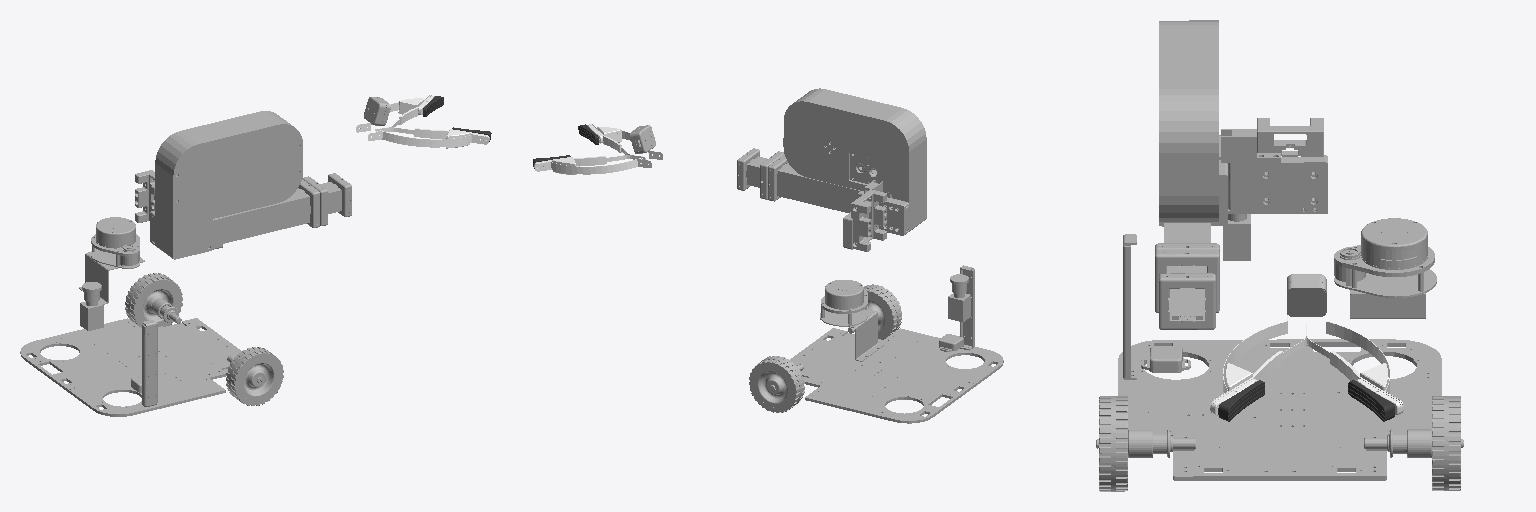
--- What the picture shows (computed from the rendered views, not written in the file) ---
The picture shows the robot from 3 angles, left to right: view 1: azimuth 30°, elevation 25°; view 2: azimuth 150°, elevation 25°; view 3: azimuth 270°, elevation 25°; orthographic projection.
Robot: konka_calibrated — 25 links, 24 joints (11 revolute, 4 prismatic, 9 fixed); root link ground_link; default pose: every joint at zero.
Visible links, largest first — view 1: link_lift, base_link, link_right_wheel, link_left_wheel, link_right_finger, link_arm_l1, link_left_finger, link_gripper_camera; view 2: link_lift, base_link, link_left_wheel, link_left_finger, link_right_wheel, link_arm_l1, link_right_finger, link_gripper_camera; view 3: base_link, link_lift, link_right_wheel, link_left_wheel, link_arm_l1, link_right_finger, link_left_finger, link_gripper_camera, link_arm_l2, link_left_finger_tip, link_right_finger_tip.
Boxes of the visible links, x1,y1,x2,y2 form: link_lift: [135, 111, 319, 259]; base_link: [20, 217, 241, 416]; link_right_wheel: [226, 347, 283, 405]; link_left_wheel: [125, 273, 182, 327]; link_right_finger: [368, 127, 489, 148]; link_arm_l1: [320, 173, 351, 216]; link_left_finger: [356, 95, 434, 132]; link_gripper_camera: [364, 97, 390, 125]; link_lift: [768, 88, 926, 251]; base_link: [790, 265, 1003, 423]; link_left_wheel: [749, 356, 804, 412]; link_left_finger: [534, 155, 651, 174]; link_right_wheel: [848, 284, 901, 339]; link_arm_l1: [737, 148, 766, 190]; link_right_finger: [587, 124, 662, 159]; link_gripper_camera: [630, 125, 655, 153]; base_link: [1118, 214, 1441, 480]; link_lift: [1155, 20, 1327, 251]; link_right_wheel: [1096, 396, 1195, 491]; link_left_wheel: [1364, 396, 1463, 490]; link_arm_l1: [1159, 265, 1215, 329]; link_right_finger: [1210, 315, 1306, 415]; link_left_finger: [1307, 321, 1403, 414]; link_gripper_camera: [1287, 274, 1326, 316]; link_arm_l2: [1155, 250, 1219, 312]; link_left_finger_tip: [1348, 380, 1394, 421]; link_right_finger_tip: [1218, 380, 1264, 421].
Bounding box of the posed robot: 0.834 × 0.3852 × 0.4951 m (x, y, z).
11 mesh visuals loaded from 20 distinct referenced files (11 binary STL); not drawn: 9 (reference not matched to a file when rendering).

The robot description file, URDF, robot "konka_calibrated":
<?xml version="1.0" encoding="utf-8"?>
<!-- This URDF was automatically created by SolidWorks to URDF Exporter! Originally created by Stephen Brawner ([email redacted]) 
     Commit Version: 1.6.0-4-g7f85cfe  Build Version: 1.6.7995.38578
     For more information, please see http://wiki.ros.org/sw_urdf_exporter -->
<robot
  name="konka_calibrated">
  <link name="ground_link"/>
  <link name="base_link_z">
    <inertial>
      <origin xyz="0. 0. 0." rpy="0. 0. 0."/>
      <mass value="0.000001"/>
      <inertia ixx="0." ixy="0." ixz="0." iyy="0." iyz="0." izz="0."/>
    </inertial>
  </link>
  <joint name="base_z" type="revolute">
    <origin xyz="0. 0. 0." rpy="0. 0. 0."/>
    <parent link="ground_link"/>
    <child link="base_link_z"/>
    <axis xyz="0. 0. 1."/>
    <limit lower="-6.0" upper="6.0" effort="100" velocity="1.5"/>
  </joint>
  <link
    name="base_link">
    <inertial>
      <origin
        xyz="-0.134386456438626 -0.0029635574533388 0.0162723957299908"
        rpy="0 0 0" />
      <mass
        value="1.62345380476899" />
      <inertia
        ixx="0.0102521793009218"
        ixy="-0.000137622284476433"
        ixz="-2.97249967180695E-06"
        iyy="0.0105024284991203"
        iyz="-2.61808281409741E-05"
        izz="0.0200126307730333" />
    </inertial>
    <visual>
      <origin
        xyz="0 0 0"
        rpy="0 0 0" />
      <geometry>
        <mesh
          filename="./base_link.STL" />
      </geometry>
      <material
        name="">
        <color
          rgba="0.752941176470588 0.752941176470588 0.752941176470588 1" />
      </material>
    </visual>
    <collision>
      <origin
        xyz="0 0 0"
        rpy="0 0 0" />
      <geometry>
        <mesh
          filename="./base_link.STL" />
      </geometry>
    </collision>
  </link>
  <joint name="base_fixed" type="fixed">
    <origin xyz="0. 0. 0.05" rpy="0. 0. 0."/>
    <parent link="base_link_z"/>
    <child link="base_link"/>
  </joint>
  <link name="calibration_board"/>
  <joint name="calibration_board_joint" type="fixed">
    <origin xyz="0.6 0. -0.005" rpy="0. 0. 0."/>
    <parent link="base_link"/>
    <child link="calibration_board"/>
  </joint>
  <link
    name="link_left_wheel">
    <inertial>
      <origin
        xyz="1.2768616369091E-05 -4.43366311559182E-06 -0.0324391427791873"
        rpy="0 0 0" />
      <mass
        value="0.614259402757732" />
      <inertia
        ixx="0.000332643157382783"
        ixy="-1.12599594927163E-08"
        ixz="-1.85299097610504E-07"
        iyy="0.000332614640545352"
        iyz="6.43430424579014E-08"
        izz="0.000436884693388146" />
    </inertial>
    <visual>
      <origin
        xyz="0 0 0"
        rpy="0 0 0" />
      <geometry>
        <mesh
          filename="./link_left_wheel.STL" />
      </geometry>
      <material
        name="">
        <color
          rgba="0.752941176470588 0.752941176470588 0.752941176470588 1" />
      </material>
    </visual>
    <collision>
      <origin
        xyz="0 0 0"
        rpy="0 0 0" />
      <geometry>
        <mesh
          filename="./link_left_wheel.STL" />
      </geometry>
    </collision>
  </link>
  <joint
    name="joint_left_wheel"
    type="revolute">
    <origin
      xyz="0 0.192599945028044 0.000145516989955043"
      rpy="-1.57004078679594 0 0" />
    <parent
      link="base_link" />
    <child
      link="link_left_wheel" />
    <axis
      xyz="0 0 1" />
    <limit lower="-3.13" upper="3.13" effort="100" velocity="1.0"/>
  </joint>
  <link
    name="link_right_wheel">
    <inertial>
      <origin
        xyz="-6.5658817576808E-06 -1.18145727525283E-05 0.0324391427623859"
        rpy="0 0 0" />
      <mass
        value="0.614259402757732" />
      <inertia
        ixx="0.000332619304616668"
        ixy="1.54284701123084E-08"
        ixz="-9.5282980946905E-08"
        iyy="0.000332638493311467"
        iyz="-1.71455292240236E-07"
        izz="0.000436884693388146" />
    </inertial>
    <visual>
      <origin
        xyz="0 0 0"
        rpy="0 0 0" />
      <geometry>
        <mesh
          filename="./link_right_wheel.STL" />
      </geometry>
      <material
        name="">
        <color
          rgba="0.752941176470588 0.752941176470588 0.752941176470588 1" />
      </material>
    </visual>
    <collision>
      <origin
        xyz="0 0 0"
        rpy="0 0 0" />
      <geometry>
        <mesh
          filename="./link_right_wheel.STL" />
      </geometry>
    </collision>
  </link>
  <joint
    name="joint_right_wheel"
    type="revolute">
    <origin
      xyz="0 -0.192599945028044 -0.000145516989955071"
      rpy="-1.57004078679594 0 0" />
    <parent
      link="base_link" />
    <child
      link="link_right_wheel" />
    <axis
      xyz="0 0 1" />
    <limit lower="-3.13" upper="3.13" effort="100" velocity="1.0"/>
  </joint>
  <link
    name="link_mast">
    <inertial>
      <origin
        xyz="0.0258398513426664 0.028631401224958 0.467900104019929"
        rpy="0 0 0" />
      <mass
        value="6.18138650034138" />
      <inertia
        ixx="0.637662257415019"
        ixy="-0.000218992253647309"
        ixz="-0.00929685916784925"
        iyy="0.624235077725138"
        iyz="-0.00290164259795953"
        izz="0.0279704353207967" />
    </inertial>
    <visual>
      <origin
        xyz="0 0 0"
        rpy="0 0 0" />
      <geometry>
        <mesh
          filename="./link_mast.STL" />
      </geometry>
      <material
        name="">
        <color
          rgba="0.752941176470588 0.752941176470588 0.752941176470588 1" />
      </material>
    </visual>
    <collision>
      <origin
        xyz="0 0 0"
        rpy="0 0 0" />
      <geometry>
        <mesh
          filename="./link_mast.STL" />
      </geometry>
    </collision>
  </link>
  <joint
    name="joint_linkmast"
    type="fixed">
    <origin
      xyz="-0.165 -0.018631458667035 0.173985972848211"
      rpy="0.000755539998957646 0 0" />
    <parent
      link="base_link" />
    <child
      link="link_mast" />
    <axis
      xyz="0 0 0" />
  </joint>
  <link
    name="link_lift">
    <inertial>
      <origin
        xyz="-0.0867335200766273 -0.072830862176892 0.0739584361022941"
        rpy="0 0 0" />
      <mass
        value="2.18189187948171" />
      <inertia
        ixx="0.00452079175387906"
        ixy="-0.000115718692828965"
        ixz="0.00114589649702232"
        iyy="0.0106392420472737"
        iyz="-3.29952623386062E-06"
        izz="0.0081091147472212" />
    </inertial>
    <visual>
      <origin
        xyz="0 0 0"
        rpy="0 0 0" />
      <geometry>
        <mesh
          filename="./link_lift.STL" />
      </geometry>
      <material
        name="">
        <color
          rgba="0.752941176470588 0.752941176470588 0.752941176470588 1" />
      </material>
    </visual>
    <collision>
      <origin
        xyz="0 0 0"
        rpy="0 0 0" />
      <geometry>
        <mesh
          filename="./link_lift.STL" />
      </geometry>
    </collision>
  </link>
  <joint
    name="joint_lift"
    type="prismatic">
    <origin
      xyz="0.0293876763883446 -0.1085 0.061"
      rpy="0 0 3.14159265358979" />
    <parent
      link="link_mast" />
    <child
      link="link_lift" />
    <axis
      xyz="0 0 1" />
    <limit
      lower="0"
      upper="1.05"
      effort="150"
      velocity="1.0" />
  </joint>
  <link
    name="link_arm_l2">
    <inertial>
      <origin
        xyz="-2.77555756156289E-17 -0.00747677548647019 -0.125906294012483"
        rpy="0 0 0" />
      <mass
        value="0.20407766260326" />
      <inertia
        ixx="0.000420999527312303"
        ixy="7.24962235162678E-20"
        ixz="1.53419953638658E-19"
        iyy="0.000419986933703547"
        iyz="-2.80888078509622E-10"
        izz="0.000124139491906804" />
    </inertial>
    <visual>
      <origin
        xyz="0 0 0"
        rpy="0 0 0" />
      <geometry>
        <mesh
          filename="./link_arm_l2.STL" />
      </geometry>
      <material
        name="">
        <color
          rgba="0.752941176470588 0.752941176470588 0.752941176470588 1" />
      </material>
    </visual>
    <collision>
      <origin
        xyz="0 0 0"
        rpy="0 0 0" />
      <geometry>
        <mesh
          filename="./link_arm_l2.STL" />
      </geometry>
    </collision>
  </link>
  <joint
    name="joint_arm_l2"
    type="prismatic">
    <origin
      xyz="-0.309 -0.03 0.038106"
      rpy="1.5708 0 -1.5708" />
    <parent
      link="link_lift" />
    <child
      link="link_arm_l2" />
    <axis
      xyz="0 0 1" />
    <limit
      lower="0"
      upper="0.16"
      effort="100"
      velocity="0.3" />
  </joint>
  <link
    name="link_arm_l1">
    <inertial>
      <origin
        xyz="0 0.00068762387390503 -0.118491699466605"
        rpy="0 0 0" />
      <mass
        value="0.159794024856601" />
      <inertia
        ixx="0.000334176222316651"
        ixy="5.92944959148203E-13"
        ixz="-1.02194238224496E-19"
        iyy="0.000333509141410478"
        iyz="-1.71589193710407E-10"
        izz="7.75474295549907E-05" />
    </inertial>
    <visual>
      <origin
        xyz="0 0 0"
        rpy="0 0 0" />
      <geometry>
        <mesh
          filename="./link_arm_l1.STL" />
      </geometry>
      <material
        name="">
        <color
          rgba="0.752941176470588 0.752941176470588 0.752941176470588 1" />
      </material>
    </visual>
    <collision>
      <origin
        xyz="0 0 0"
        rpy="0 0 0" />
      <geometry>
        <mesh
          filename="./link_arm_l1.STL" />
      </geometry>
    </collision>
  </link>
  <joint
    name="joint_arm_l1"
    type="prismatic">
    <origin
      xyz="0 -0.0081064 0.05"
      rpy="0 0 0" />
    <parent
      link="link_arm_l2" />
    <child
      link="link_arm_l1" />
    <axis
      xyz="0 0 1" />
    <limit
      lower="0"
      upper="0.16"
      effort="100"
      velocity="0.3" />
  </joint>
  <link
    name="link_arm_l0">
    <inertial>
      <origin
        xyz="0.0519744051948967 0.0477815068262361 -0.031124032944062"
        rpy="0 0 0" />
      <mass
        value="0.647193039992598" />
      <inertia
        ixx="0.000479462761380211"
        ixy="-1.64412374026322E-05"
        ixz="9.98940987402069E-08"
        iyy="0.00128430953836159"
        iyz="7.66311046809528E-06"
        izz="0.00108267736017755" />
    </inertial>
    <visual>
      <origin
        xyz="0 0 0"
        rpy="0 0 0" />
      <geometry>
        <mesh
          filename="./link_arm_l0.STL" />
      </geometry>
      <material
        name="">
        <color
          rgba="0.752941176470588 0.752941176470588 0.752941176470588 1" />
      </material>
    </visual>
    <collision>
      <origin
        xyz="0 0 0"
        rpy="0 0 0" />
      <geometry>
        <mesh
          filename="./link_arm_l0.STL" />
      </geometry>
    </collision>
  </link>
  <joint
    name="joint_arm_l0"
    type="prismatic">
    <origin
      xyz="0 0.00125 0.014"
      rpy="0 0 0" />
    <parent
      link="link_arm_l1" />
    <child
      link="link_arm_l0" />
    <axis
      xyz="0 0 1" />
    <limit
      lower="0"
      upper="0.16"
      effort="100"
      velocity="0.3" />
  </joint>
  <link
    name="link_yaw">
    <inertial>
      <origin
        xyz="0.0272928150356697 -0.0206481319921274 -0.00980364928418231"
        rpy="0 0 0" />
      <mass
        value="0.155159344900663" />
      <inertia
        ixx="5.65269362200297E-05"
        ixy="-2.20426633356647E-06"
        ixz="6.79328087987658E-10"
        iyy="0.000142475212708442"
        iyz="1.86810231854491E-08"
        izz="0.000175668181600691" />
    </inertial>
    <visual>
      <origin
        xyz="0 0 0"
        rpy="0 0 0" />
      <geometry>
        <mesh
          filename="./link_yaw.STL" />
      </geometry>
      <material
        name="">
        <color
          rgba="0.752941176470588 0.752941176470588 0.752941176470588 1" />
      </material>
    </visual>
    <collision>
      <origin
        xyz="0 0 0"
        rpy="0 0 0" />
      <geometry>
        <mesh
          filename="./link_yaw.STL" />
      </geometry>
    </collision>
  </link>
  <joint
    name="joint_yaw"
    type="revolute">
    <origin
      xyz="0.1255 0.0329 -0.0139999999999998"
      rpy="1.5707963267949 0 -3.14159265358979" />
    <parent
      link="link_arm_l0" />
    <child
      link="link_yaw" />
    <axis
      xyz="0 0 1" />
    <limit
      lower="-0.6"
      upper="2.6179938779914944"
      effort="100"
      velocity="1.5" />
  </joint>
  <link
    name="link_pitch">
    <inertial>
      <origin
        xyz="0.0119812946911165 4.66924359487919E-06 -0.035075597818908"
        rpy="0 0 0" />
      <mass
        value="0.133282783942938" />
      <inertia
        ixx="5.50258663889395E-05"
        ixy="-1.07499880428723E-12"
        ixz="8.36729111150783E-06"
        iyy="5.26806886915758E-05"
        iyz="1.723023785643E-11"
        izz="3.27771968529081E-05" />
    </inertial>
    <visual>
      <origin
        xyz="0 0 0"
        rpy="0 0 0" />
      <geometry>
        <mesh
          filename="./link_pitch.STL" />
      </geometry>
      <material
        name="">
        <color
          rgba="0.752941176470588 0.752941176470588 0.752941176470588 1" />
      </material>
    </visual>
    <collision>
      <origin
        xyz="0 0 0"
        rpy="0 0 0" />
      <geometry>
        <mesh
          filename="./link_pitch.STL" />
      </geometry>
    </collision>
  </link>
  <joint
    name="joint_pitch"
    type="revolute">
    <origin
      xyz="0.0238 0 -0.032"
      rpy="1.5708 0.1 1.5708" />
    <parent
      link="link_yaw" />
    <child
      link="link_pitch" />
    <axis
      xyz="0 0 1" />
    <limit
      lower="-1.599119487777778"
      upper="0.321"
      effort="100"
      velocity="1.5" />
  </joint>
  <link
    name="link_roll">
    <inertial>
      <origin
        xyz="-2.89195848417814E-05 -0.0376798183196644 0.0643353904322303"
        rpy="0 0 0" />
      <mass
        value="0.121829025389052" />
      <inertia
        ixx="5.31374023436403E-05"
        ixy="-9.76005080721726E-10"
        ixz="3.01395798963676E-09"
        iyy="6.03480709621298E-05"
        iyz="1.60050749407347E-07"
        izz="2.40878226683839E-05" />
    </inertial>
    <visual>
      <origin
        xyz="0 0 0"
        rpy="0 0 0" />
      <geometry>
        <mesh
          filename="./link_roll.STL" />
      </geometry>
      <material
        name="">
        <color
          rgba="1 1 1 1" />
      </material>
    </visual>
    <collision>
      <origin
        xyz="0 0 0"
        rpy="0 0 0" />
      <geometry>
        <mesh
          filename="./link_roll.STL" />
      </geometry>
    </collision>
  </link>
  <joint
    name="joint_roll"
    type="revolute">
    <origin
      xyz="0.02935 0 -0.0235"
      rpy="0 -1.5708 3.1415" />
    <parent
      link="link_pitch" />
    <child
      link="link_roll" />
    <axis
      xyz="0 0 1" />
    <limit
      lower="-3.13"
      upper="3.13"
      effort="100"
      velocity="1.5" />
  </joint>
  <link name="grasp_center">
    <inertial>
      <origin xyz="0. 0. 0." rpy="0. 0. 0."/>
      <mass value="0.000001"/>
      <inertia ixx="0." ixy="0." ixz="0." iyy="0." iyz="0." izz="0."/>
    </inertial>
  </link>
  <joint
    name="joint_grasp_center"
    type="fixed">
    <origin
      xyz="0 -0.055 0.245"
      rpy="0 -1.5707963267948966 1.5707963267948966" />
    <parent
      link="link_roll" />
    <child
      link="grasp_center" />
    <axis
      xyz="0 0 0" />
  </joint>
  <link
    name="link_left_finger">
    <inertial>
      <origin
        xyz="-0.114744698410465 -0.0498383541703534 -0.00746862446376334"
        rpy="0 0 0" />
      <mass
        value="0.0299417572217902" />
      <inertia
        ixx="7.05723584660976E-06"
        ixy="-8.18061209276055E-06"
        ixz="-2.16411007946283E-08"
        iyy="1.7674711405082E-05"
        iyz="-1.35392572440682E-08"
        izz="2.24650542376446E-05" />
    </inertial>
    <visual>
      <origin
        xyz="0 0 0"
        rpy="0 0 0" />
      <geometry>
        <mesh
          filename="./link_left_finger.STL" />
      </geometry>
      <material
        name="">
        <color
          rgba="1 1 1 1" />
      </material>
    </visual>
    <collision>
      <origin
        xyz="0 0 0"
        rpy="0 0 0" />
      <geometry>
        <mesh
          filename="./link_left_finger.STL" />
      </geometry>
    </collision>
  </link>
  <joint
    name="joint_left_finger"
    type="revolute">
    <origin
      xyz="-0.0206 -0.057 0.10403"
      rpy="1.5708 1.5708 0" />
    <parent
      link="link_roll" />
    <child
      link="link_left_finger" />
    <axis
      xyz="0 0 -1" />
    <limit
      lower="-0.5235987755982988"
      upper="0.5235987755982988"
      effort="100"
      velocity="1.5" />
  </joint>
  <link
    name="link_left_finger_tip">
    <inertial>
      <origin
        xyz="0.00151426490846374 -4.00144909429301E-08 -0.00574071333127769"
        rpy="0 0 0" />
      <mass
        value="0.010954389987442" />
      <inertia
        ixx="1.86017054999914E-06"
        ixy="2.19372644545635E-11"
        ixz="2.01506973777714E-06"
        iyy="4.43361445763762E-06"
        iyz="-1.56990043568784E-11"
        izz="3.13133227560294E-06" />
    </inertial>
    <visual>
      <origin
        xyz="0 0 0"
        rpy="0 0 0" />
      <geometry>
        <mesh
          filename="./link_left_finger_tip.STL" />
      </geometry>
      <material
        name="">
        <color
          rgba="0.298039215686275 0.298039215686275 0.298039215686275 1" />
      </material>
    </visual>
    <collision>
      <origin
        xyz="0 0 0"
        rpy="0 0 0" />
      <geometry>
        <mesh
          filename="./link_left_finger_tip.STL" />
      </geometry>
    </collision>
  </link>
  <joint
    name="joint_left_finger_tip"
    type="fixed">
    <origin
      xyz="-0.15191 -0.044141 -0.0075"
      rpy="1.5708 0 -3.1416" />
    <parent
      link="link_left_finger" />
    <child
      link="link_left_finger_tip" />
    <axis
      xyz="0 1 0" />
  </joint>
  <link
    name="link_right_finger">
    <inertial>
      <origin
        xyz="-0.114744698410465 -0.0498383541703535 0.00746862841662832"
        rpy="0 0 0" />
      <mass
        value="0.02994175722179" />
      <inertia
        ixx="7.05723584666057E-06"
        ixy="-8.18061209276147E-06"
        ixz="2.16750283418599E-08"
        iyy="1.76747114051322E-05"
        iyz="1.35686225695102E-08"
        izz="2.24650542376416E-05" />
    </inertial>
    <visual>
      <origin
        xyz="0 0 0"
        rpy="0 0 0" />
      <geometry>
        <mesh
          filename="./link_right_finger.STL" />
      </geometry>
      <material
        name="">
        <color
          rgba="1 1 1 1" />
      </material>
    </visual>
    <collision>
      <origin
        xyz="0 0 0"
        rpy="0 0 0" />
      <geometry>
        <mesh
          filename="./link_right_finger.STL" />
      </geometry>
    </collision>
  </link>
  <joint
    name="joint_right_finger"
    type="revolute">
    <origin
      xyz="0.0206 -0.057 0.10403"
      rpy="-1.5708 1.5708 0" />
    <parent
      link="link_roll" />
    <child
      link="link_right_finger" />
    <axis
      xyz="0 0 1" />
    <limit
      lower="-0.5235987755982988"
      upper="0.5235987755982988"
      effort="100"
      velocity="1.5" />
  </joint>
  <link
    name="link_right_finger_tip">
    <inertial>
      <origin
        xyz="0.00151426490846418 -0.00574071333127785 4.00144913870193E-08"
        rpy="0 0 0" />
      <mass
        value="0.0109543899874422" />
      <inertia
        ixx="1.8601705499991E-06"
        ixy="2.01506973777736E-06"
        ixz="-2.19372644665949E-11"
        iyy="3.13133227560291E-06"
        iyz="1.56990043681769E-11"
        izz="4.43361445763754E-06" />
    </inertial>
    <visual>
      <origin
        xyz="0 0 0"
        rpy="0 0 0" />
      <geometry>
        <mesh
          filename="./link_right_finger_tip.STL" />
      </geometry>
      <material
        name="">
        <color
          rgba="0.298039215686275 0.298039215686275 0.298039215686275 1" />
      </material>
    </visual>
    <collision>
      <origin
        xyz="0 0 0"
        rpy="0 0 0" />
      <geometry>
        <mesh
          filename="./link_right_finger_tip.STL" />
      </geometry>
    </collision>
  </link>
  <joint
    name="joint_right_finger_tip"
    type="fixed">
    <origin
      xyz="-0.15191 -0.044141 0.0075"
      rpy="-3.1416 0 3.1416" />
    <parent
      link="link_right_finger" />
    <child
      link="link_right_finger_tip" />
    <axis
      xyz="0 0 1" />
  </joint>
  <link
    name="link_gripper_camera">
    <inertial>
      <origin
        xyz="3.30736058404314E-05 0.000223755392345981 -0.0121188975094917"
        rpy="0 0 0" />
      <mass
        value="0.0184927379038752" />
      <inertia
        ixx="3.1820171298716E-06"
        ixy="5.27161929305674E-09"
        ixz="-3.09328047364546E-09"
        iyy="3.36573547594482E-06"
        iyz="-9.33461708152667E-09"
        izz="6.07850825013886E-06" />
    </inertial>
    <visual>
      <origin
        xyz="0 0 0"
        rpy="0 0 0" />
      <geometry>
        <mesh
          filename="./link_gripper_camera.STL" />
      </geometry>
      <material
        name="">
        <color
          rgba="0.752941176470588 0.752941176470588 0.752941176470588 1" />
      </material>
    </visual>
    <collision>
      <origin
        xyz="0 0 0"
        rpy="0 0 0" />
      <geometry>
        <mesh
          filename="./link_gripper_camera.STL" />
      </geometry>
    </collision>
  </link>
  <joint
    name="joint_gripper_camera"
    type="fixed">
    <origin
      xyz="0 -0.084375 0.11165"
      rpy="-0.22689 0 0" />
    <parent
      link="link_roll" />
    <child
      link="link_gripper_camera" />
    <axis
      xyz="0 0 0" />
  </joint>
  <link
    name="link_head_pitch">
    <inertial>
      <origin
        xyz="0.0172959003249896 0.103642982193042 0.02825036288113"
        rpy="0 0 0" />
      <mass
        value="0.580790033978812" />
      <inertia
        ixx="0.00423801596737326"
        ixy="-0.000217125649654612"
        ixz="1.53469497813165E-05"
        iyy="0.00289024571132131"
        iyz="3.6170826234411E-05"
        izz="0.00171857268882932" />
    </inertial>
    <visual>
      <origin
        xyz="0 0 0"
        rpy="0 0 0" />
      <geometry>
        <mesh
          filename="./link_head_pitch.STL" />
      </geometry>
      <material
        name="">
        <color
          rgba="0.752941176470588 0.752941176470588 0.752941176470588 1" />
      </material>
    </visual>
    <collision>
      <origin
        xyz="0 0 0"
        rpy="0 0 0" />
      <geometry>
        <mesh
          filename="./link_head_pitch.STL" />
      </geometry>
    </collision>
  </link>
  <joint
    name="joint_head_pitch"
    type="revolute">
    <origin
      xyz="0.0395587489466813 -0.00390424565833469 1.31386462289597"
      rpy="1.57079632679498 0 -3.11282747052407" />
    <parent
      link="link_mast" />
    <child
      link="link_head_pitch" />
    <axis
      xyz="0 0 1" />
    <limit
      lower="-0.5235987755982988"
      upper="1.5708"
      effort="100"
      velocity="1.5" />
  </joint>
    <link
    name="link_head_pan">
    <inertial>
      <origin
        xyz="0.0128343379827767 -2.88266661278569E-05 -0.016579897253566"
        rpy="0 0 0" />
      <mass
        value="0.0218854437931884" />
      <inertia
        ixx="3.00956162186207E-06"
        ixy="-1.3555942474742E-12"
        ixz="-2.04240535283129E-07"
        iyy="5.10107203829794E-06"
        iyz="1.69922783003176E-11"
        izz="3.9055180069051E-06" />
    </inertial>
    <visual>
      <origin
        xyz="0 0 0"
        rpy="0 0 0" />
      <geometry>
        <mesh
          filename="./link_head_pan.STL" />
      </geometry>
      <material
        name="">
        <color
          rgba="0.752941176470588 0.752941176470588 0.752941176470588 1" />
      </material>
    </visual>
    <collision>
      <origin
        xyz="0 0 0"
        rpy="0 0 0" />
      <geometry>
        <mesh
          filename="./link_head_pan.STL" />
      </geometry>
    </collision>
  </link>
    <joint
    name="joint_head_pan"
    type="revolute">
    <origin
      xyz="-0.06162069862397953 0.06718276579384455 1.4043910153053882"
      rpy="  0.004 -0.004  1.719" />
    <parent
      link="base_link" />
    <child
      link="link_head_pan" />
    <axis
      xyz="0 0 1" />
    <limit
      lower="-0.5235987755982988"
      upper="1.5708"
      effort="100"
      velocity="1.5" />
  </joint>
  <link
    name="link_head_tlt">
    <inertial>
      <origin
        xyz="0.00925166002343975 4.44089209850063E-16 -0.0102882658329042"
        rpy="0 0 0" />
      <mass
        value="0.0171881171636052" />
      <inertia
        ixx="6.0305881439267E-06"
        ixy="-4.9235403321997E-23"
        ixz="2.87941007186394E-07"
        iyy="1.40085634243238E-06"
        iyz="1.26168559720572E-21"
        izz="5.52011042265346E-06" />
    </inertial>
    <visual>
      <origin
        xyz="0 0 0"
        rpy="0 0 0" />
      <geometry>
        <mesh
          filename="./link_head_tlt.STL" />
      </geometry>
      <material
        name="">
        <color
          rgba="0.898039215686275 0.917647058823529 0.929411764705882 1" />
      </material>
    </visual>
    <collision>
      <origin
        xyz="0 0 0"
        rpy="0 0 0" />
      <geometry>
        <mesh
          filename="./link_head_tlt.STL" />
      </geometry>
    </collision>
  </link>
  <joint
    name="joint_head_tilt"
    type="revolute">
    <origin
      xyz="0.0365500000000001 0 -0.03325"
      rpy="1.5707963267949 0.6108 -1.5707963267949" />
    <parent
      link="link_head_pan" />
    <child
      link="link_head_tlt" />
    <axis
      xyz="0 0 -1" />
    <limit
      lower="0"
      upper="0"
      effort="0"
      velocity="0" />
  </joint>
  <link
    name="head_camera_link">
    <inertial>
      <origin
        xyz="0.00227858871489964 0.0011131631140866 0.0124721198243393"
        rpy="0 0 0" />
      <mass
        value="0.0456886094025222" />
      <inertia
        ixx="2.75479904326443E-05"
        ixy="4.09785958765499E-07"
        ixz="7.41196984835484E-09"
        iyy="4.13530150470521E-06"
        iyz="-1.46609702551354E-09"
        izz="2.78344282550023E-05" />
    </inertial>
    <visual>
      <origin
        xyz="0 0 0"
        rpy="0 0 0" />
      <geometry>
        <mesh
          filename="./head_camera_link.STL" />
      </geometry>
      <material
        name="">
        <color
          rgba="0.792156862745098 0.819607843137255 0.933333333333333 1" />
      </material>
    </visual>
    <collision>
      <origin
        xyz="0 0 0"
        rpy="0 0 0" />
      <geometry>
        <mesh
          filename="./head_camera_link.STL" />
      </geometry>
    </collision>
  </link>
  <joint
    name="joint_head_camera_link"
    type="fixed">
    <origin
      xyz="0.0231499999999999 0 0"
      rpy="-3.14159265358979 0 0" />
    <parent
      link="link_head_tlt" />
    <child
      link="head_camera_link" />
    <axis
      xyz="0 0 1" />
  </joint>
    <link name="camera_link">
    <inertial>
      <origin xyz="0. 0. 0." rpy="0. 0. 0."/>
      <mass value="0.000001"/>
      <inertia ixx="0." ixy="0." ixz="0." iyy="0." iyz="0." izz="0."/>
    </inertial>
  </link>
  <joint
    name="joint_camera_link"
    type="fixed">
    <origin
      xyz="0.0106 0.0175 0.0125"
      rpy="0 0 0" />
    <parent
      link="head_camera_link" />
    <child
      link="camera_link" />
    <axis
      xyz="-1 0 0" />
  </joint>
</robot>
